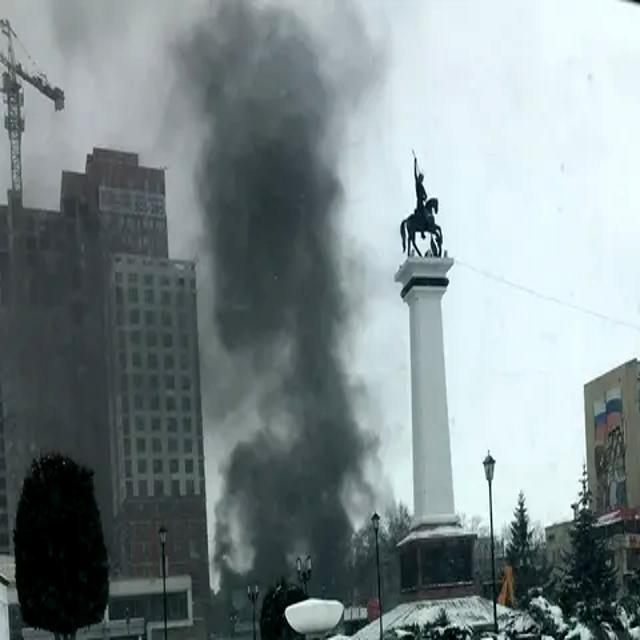no_helmet: (172, 3, 380, 598)
